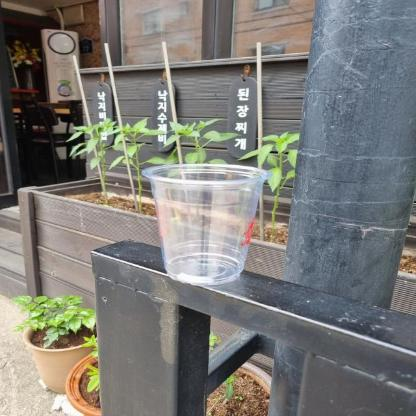Plastic Cup: (143, 164, 271, 284)
